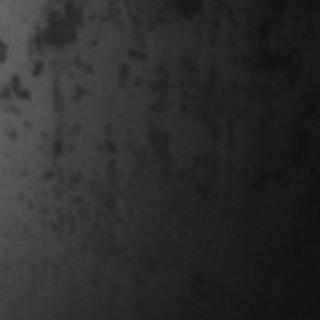pitted_surface: (11, 11, 147, 291), (216, 47, 318, 315), (119, 26, 219, 246)
